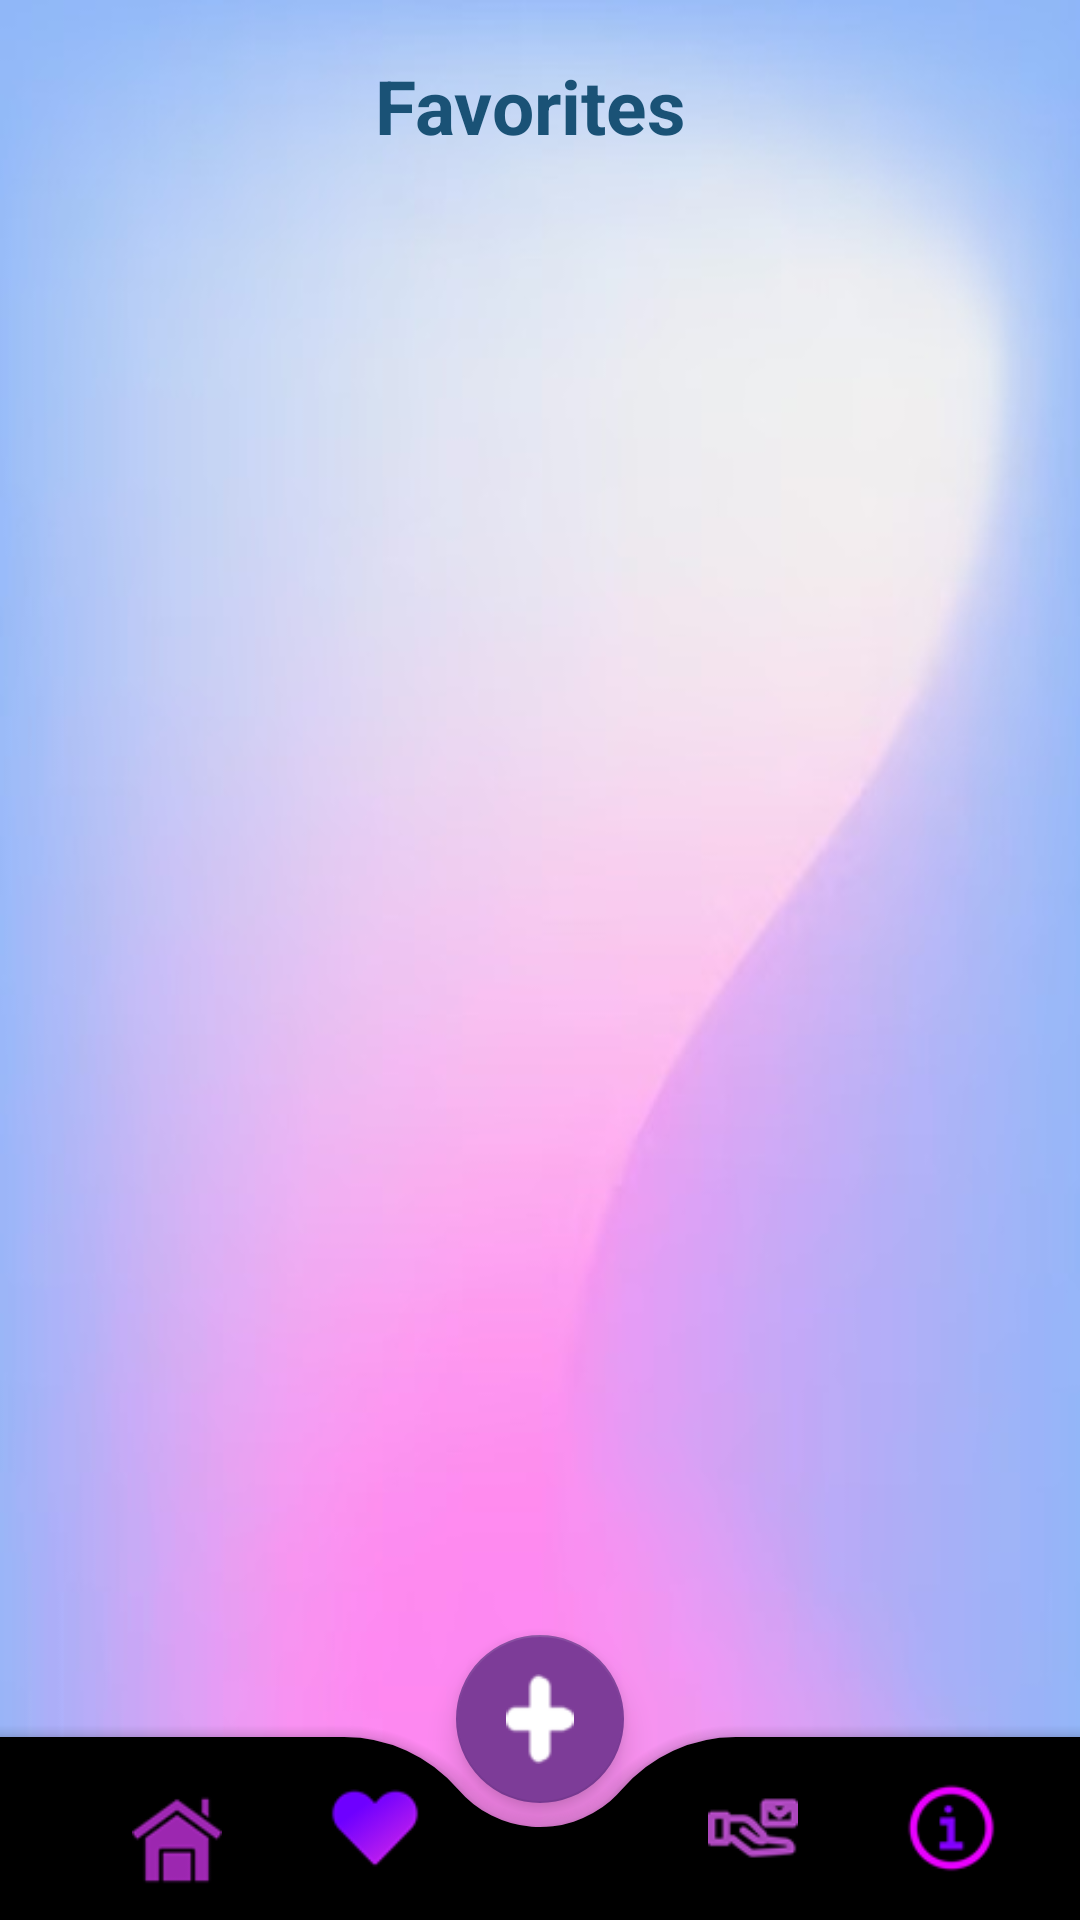

Icons on this 1080 x 1920 Android screen, each with its box as bbox(x1, y1, x2, y2):
favorite: bbox(331, 1789, 419, 1866)
home: bbox(132, 1797, 222, 1883)
info: bbox(908, 1785, 995, 1871)
mail: bbox(708, 1798, 798, 1858)
